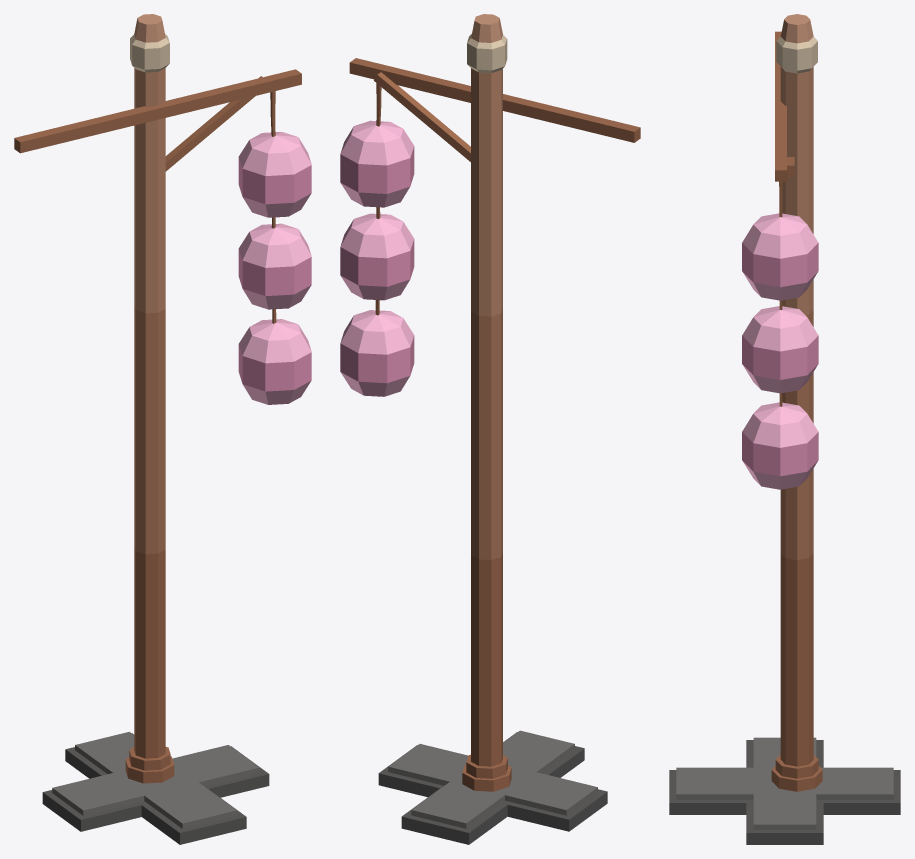
File: lamp_3.fbx
3 views of the same model, side by side, from view 1: azimuth 30°, elevation 25°; view 2: azimuth 150°, elevation 25°; view 3: azimuth 270°, elevation 25° (orthographic).
Visible parts, largest first — view 1: lamp_3; view 2: lamp_3; view 3: lamp_3.
Boxes of the visible parts, x1,y1,x2,y2 form: lamp_3: (14, 14, 311, 844); lamp_3: (340, 14, 640, 844); lamp_3: (669, 14, 900, 844).
Size of the model in its own units: 207 by 526 by 142.
